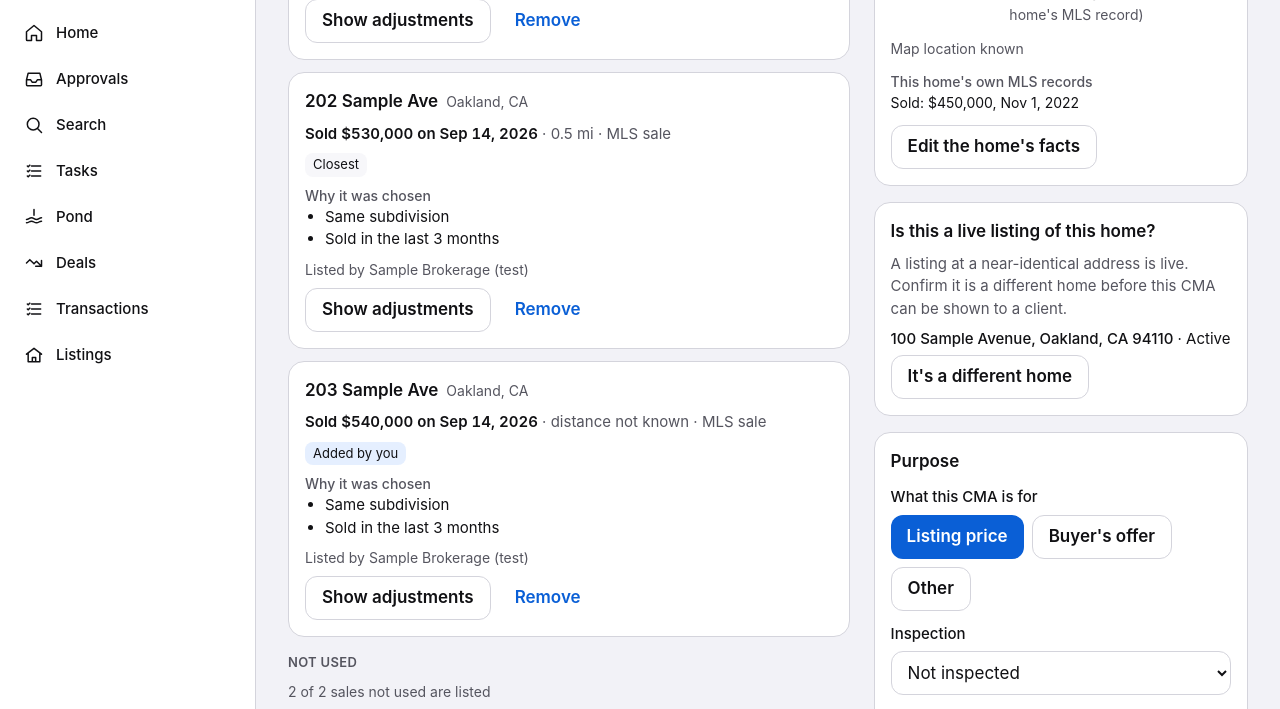
Scenario: CMA screen: the draft › E370: a near match asks "It's a different home"; the tap sends nearMatchDismissed, and a dismissed one says so
This screenshot has width=1280, height=709.
(page scrolled)
Click the button with aria-label "100 Sample Avenue, Oakland, CA 94110: it's a different home" at (990, 376), box [891,354,1089,398]
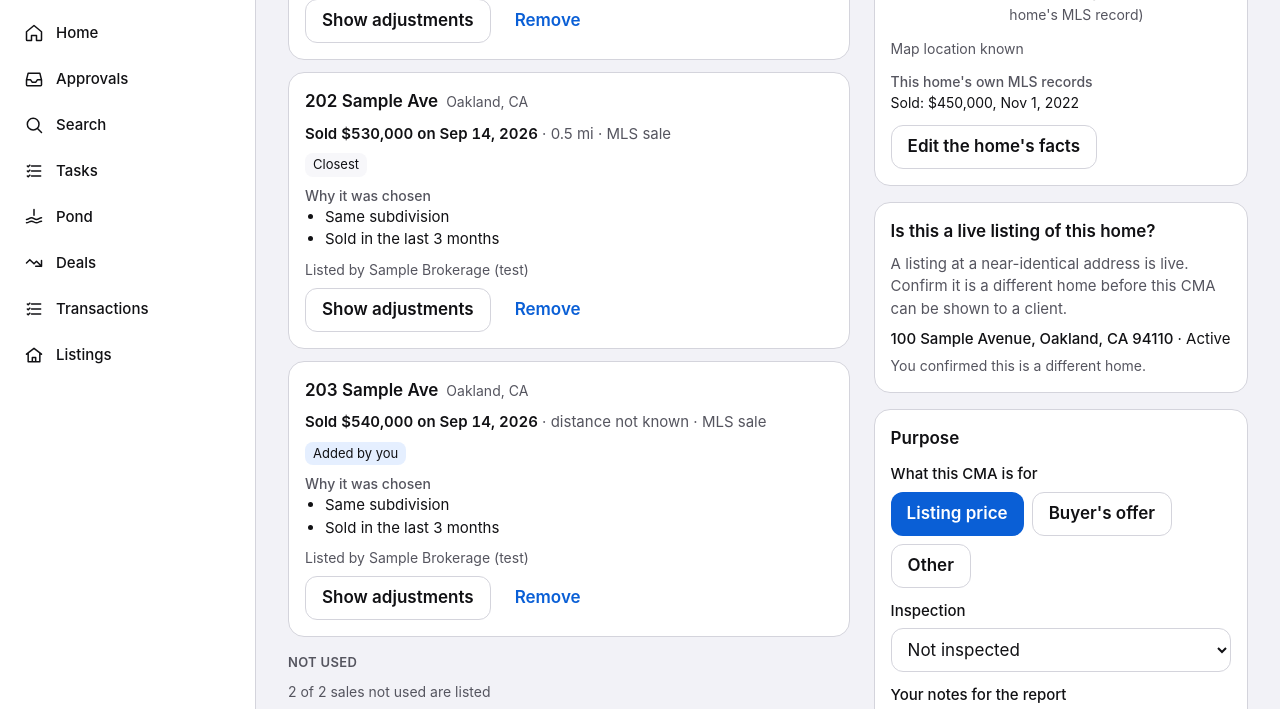
Result: the text "You confirmed this is a different home." is shown at [891,356,1146,374]
